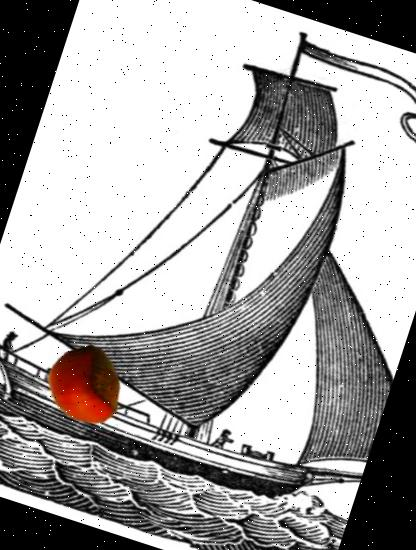Nut: (35, 337, 135, 437)
